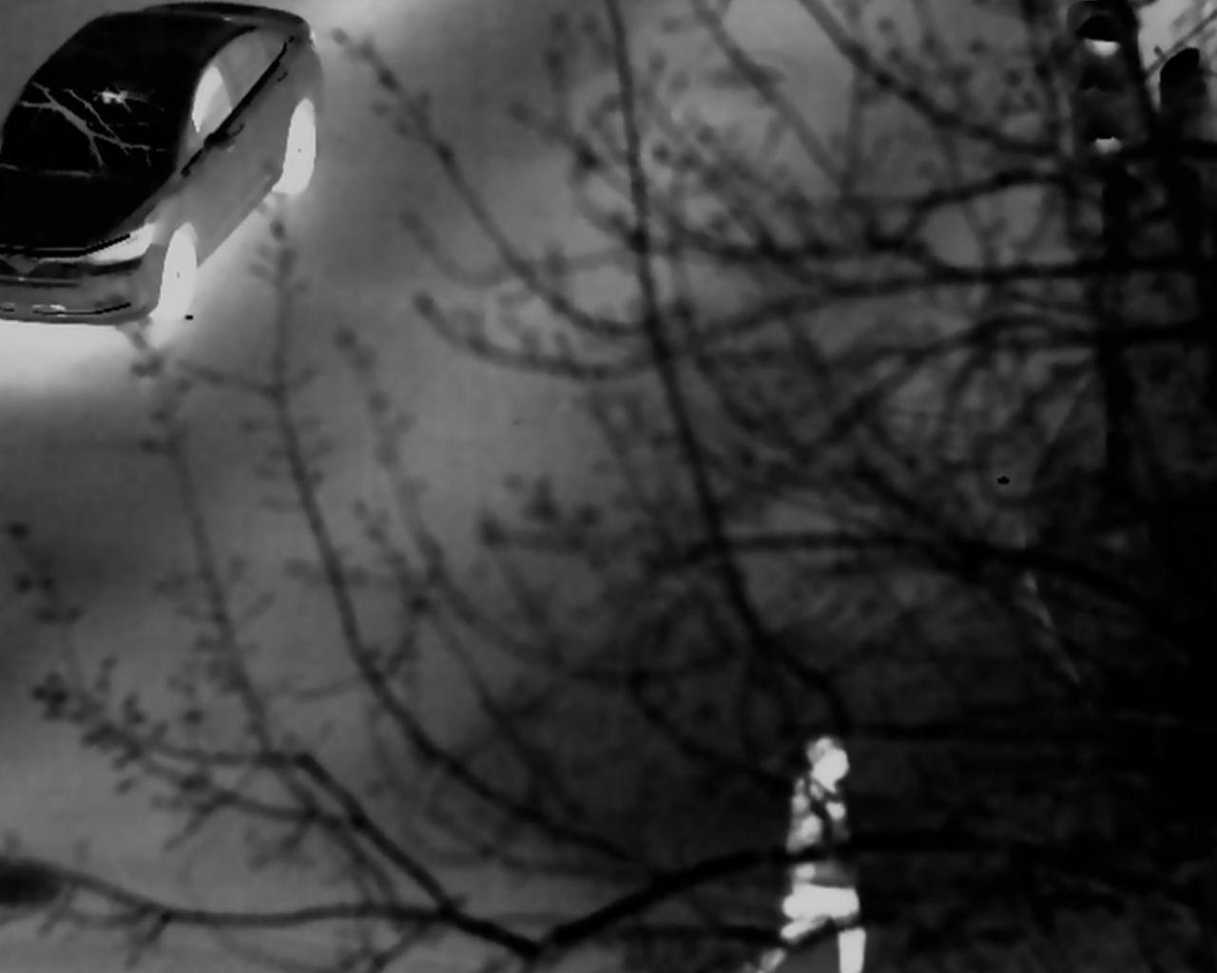person: (781, 736, 863, 968)
